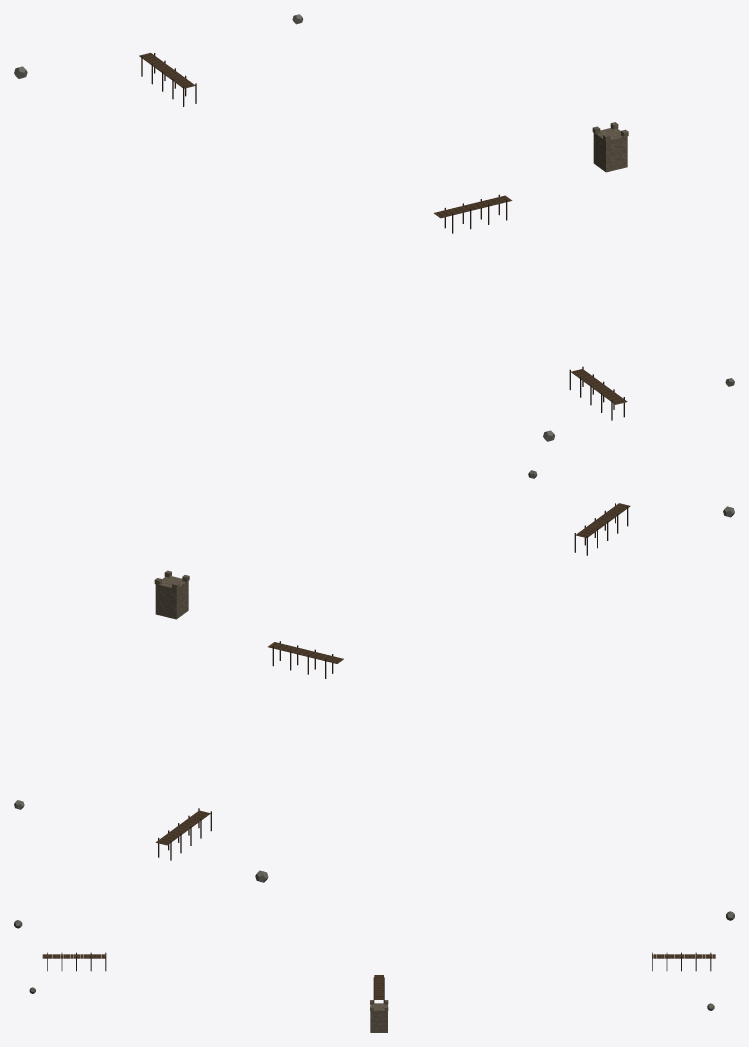
File: lago.glb
3 renders of one model, top to bottom at view 1: azimuth 30°, elevation 25°; view 2: azimuth 150°, elevation 25°; view 3: azimuth 270°, elevation 25°, orthographic. The views are drawn at different scales.
Parts seen in each view (by area): view 1: lago-0, lago-1; view 2: lago-0, lago-1; view 3: lago-0, lago-1.
Part boxes in pixels (x1=…): lago-0: x1=14, y1=14, x2=734, y2=441; lago-1: x1=592, y1=122, x2=628, y2=172; lago-0: x1=14, y1=470, x2=734, y2=882; lago-1: x1=154, y1=570, x2=189, y2=619; lago-0: x1=14, y1=911, x2=734, y2=1010; lago-1: x1=370, y1=1000, x2=388, y2=1032.
Bounding box in the file's own units: 59.83 × 9.85 × 148.
2 materials, 1 textured.
